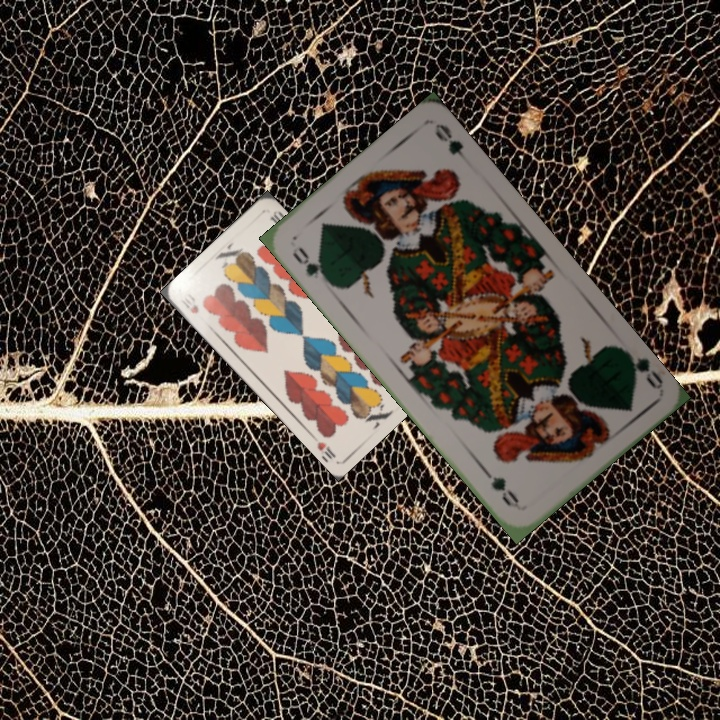GO: (617, 345, 666, 392), (288, 243, 334, 287)
H10: (177, 295, 201, 316)
